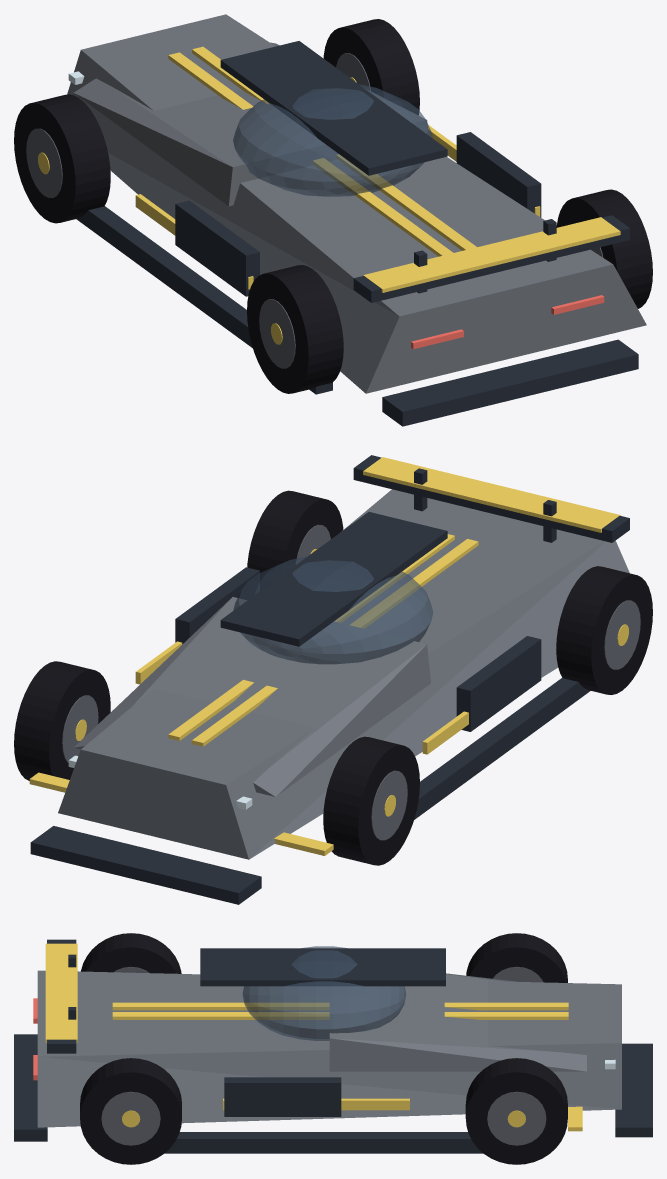
File: ironclad.glb
3 renders of one model, top to bottom at view 1: azimuth 30°, elevation 25°; view 2: azimuth 150°, elevation 25°; view 3: azimuth 270°, elevation 25°, orthographic. The views are drawn at different scales.
Visible parts, largest first — view 1: body_chassis, hood_slope, carbon_roof_spine, dark_cockpit_canopy, rear_diffuser, left_rear_tire, left_front_tire, left_side_skirt, rear_spoiler_accent, right_front_tire, right_rear_tire, left_side_intake (+8 smaller); view 2: body_chassis, hood_slope, carbon_roof_spine, dark_cockpit_canopy, left_front_tire, left_rear_tire, front_splitter, right_front_tire, left_side_skirt, rear_spoiler_accent, right_rear_tire, left_side_intake (+10 smaller); view 3: body_chassis, hood_slope, carbon_roof_spine, dark_cockpit_canopy, right_side_skirt, right_front_tire, right_rear_tire, right_side_intake, left_front_tire, front_splitter, rear_spoiler_accent, left_rear_tire (+9 smaller).
Boxes of the visible parts, box(x1,y1,x2,y2) form: body_chassis: box(67, 14, 646, 393); hood_slope: box(73, 42, 428, 206); carbon_roof_spine: box(220, 41, 447, 175); dark_cockpit_canopy: box(233, 84, 432, 196); rear_diffuser: box(382, 339, 638, 426); left_rear_tire: box(247, 265, 343, 393); left_front_tire: box(14, 94, 110, 223); left_side_skirt: box(76, 206, 332, 394); rear_spoiler_accent: box(363, 217, 620, 292); right_front_tire: box(323, 19, 419, 115); right_rear_tire: box(556, 189, 652, 308); left_side_intake: box(175, 200, 259, 296); body_chassis: box(58, 489, 629, 859); hood_slope: box(74, 597, 430, 796); carbon_roof_spine: box(220, 512, 447, 646); dark_cockpit_canopy: box(233, 556, 433, 664); left_front_tire: box(323, 736, 419, 865); left_rear_tire: box(556, 566, 652, 694); front_splitter: box(30, 826, 261, 904); right_front_tire: box(14, 661, 110, 780); left_side_skirt: box(414, 678, 590, 819); rear_spoiler_accent: box(363, 457, 620, 532); right_rear_tire: box(247, 490, 343, 590); left_side_intake: box(456, 636, 541, 731); body_chassis: box(37, 970, 621, 1127); hood_slope: box(329, 973, 586, 1071); carbon_roof_spine: box(200, 948, 445, 986); dark_cockpit_canopy: box(242, 946, 405, 1040); right_side_skirt: box(164, 1132, 482, 1153); right_front_tire: box(465, 1058, 567, 1164); right_rear_tire: box(80, 1058, 181, 1164); right_side_intake: box(224, 1077, 341, 1116); left_front_tire: box(466, 933, 567, 982); front_splitter: box(615, 1043, 652, 1137); rear_spoiler_accent: box(45, 943, 77, 1042); left_rear_tire: box(80, 933, 181, 973).
Size of the model in its own units: 2.47 by 1.1 by 4.75.
